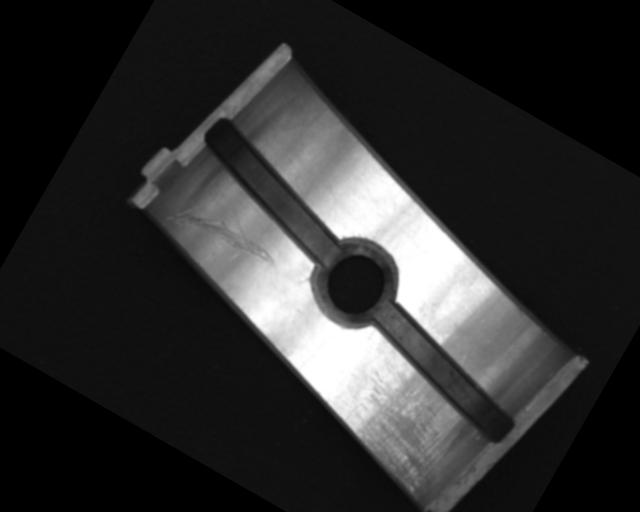gap: (175, 113, 369, 273), (346, 298, 537, 448)
hole: (300, 227, 409, 338)
nick: (160, 178, 291, 282)
scratch: (328, 356, 481, 509)
